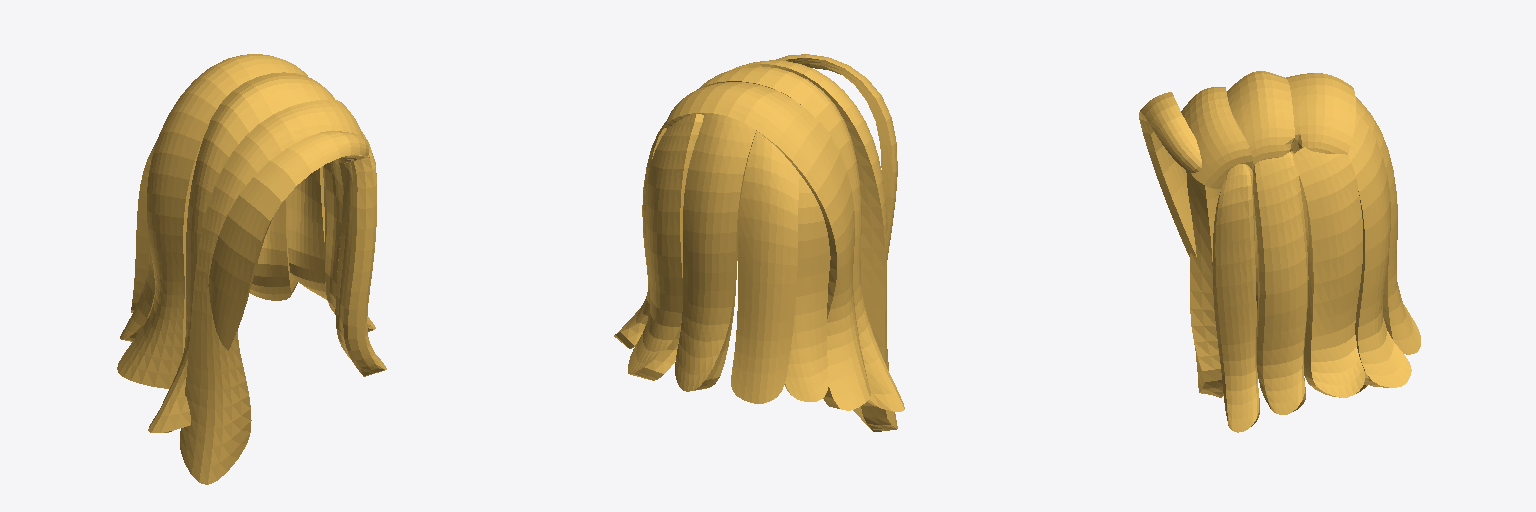
File: Head05.obj
3 views of the same model, side by side, from view 1: azimuth 30°, elevation 25°; view 2: azimuth 150°, elevation 25°; view 3: azimuth 270°, elevation 25° (orthographic).
Visible parts, largest first — view 1: KW_HairBand01_Cube.136, KW_HairBand05_Cube.139, KW_HairBand03_Cube.138, KW_HairBand02_Cube.137, KW_HairBand04_Cube.140, KW_HairBand07_Cube.142, KW_HairBand08_Cube.143, KW_HairBand06_Cube.141, KW_HairBand10_Cube.145, KW_HairBand11_Cube.146; view 2: KW_HairBand05_Cube.139, KW_HairBand09_Cube.144, KW_HairBand10_Cube.145, KW_HairBand08_Cube.143, KW_HairBand01_Cube.136, KW_HairBand11_Cube.146, KW_HairBand02_Cube.137, KW_HairBand03_Cube.138, KW_HairBand07_Cube.142; view 3: KW_HairBand07_Cube.142, KW_HairBand06_Cube.141, KW_HairBand04_Cube.140, KW_HairBand01_Cube.136, KW_HairBand08_Cube.143, KW_HairBand03_Cube.138, KW_HairBand05_Cube.139, KW_HairBand02_Cube.137, KW_HairBand09_Cube.144.
Boxes of the visible parts, box(x1,y1,x2,y2) form: KW_HairBand01_Cube.136: box(180, 100, 369, 484); KW_HairBand05_Cube.139: box(117, 54, 307, 388); KW_HairBand03_Cube.138: box(208, 130, 368, 350); KW_HairBand02_Cube.137: box(148, 72, 334, 432); KW_HairBand04_Cube.140: box(335, 131, 386, 376); KW_HairBand07_Cube.142: box(287, 166, 327, 300); KW_HairBand08_Cube.143: box(250, 198, 297, 300); KW_HairBand06_Cube.141: box(323, 159, 375, 331); KW_HairBand10_Cube.145: box(131, 139, 157, 312); KW_HairBand11_Cube.146: box(120, 249, 154, 341); KW_HairBand05_Cube.139: box(664, 82, 870, 410); KW_HairBand09_Cube.144: box(675, 114, 756, 391); KW_HairBand10_Cube.145: box(731, 131, 799, 403); KW_HairBand08_Cube.143: box(628, 114, 703, 380); KW_HairBand01_Cube.136: box(729, 60, 897, 431); KW_HairBand11_Cube.146: box(784, 175, 830, 401); KW_HairBand02_Cube.137: box(697, 66, 904, 411); KW_HairBand03_Cube.138: box(776, 54, 897, 259); KW_HairBand07_Cube.142: box(614, 122, 666, 348); KW_HairBand07_Cube.142: box(1293, 147, 1368, 397); KW_HairBand06_Cube.141: box(1253, 151, 1308, 414); KW_HairBand04_Cube.140: box(1212, 164, 1259, 432); KW_HairBand01_Cube.136: box(1181, 87, 1252, 397); KW_HairBand08_Cube.143: box(1348, 113, 1411, 387); KW_HairBand03_Cube.138: box(1139, 92, 1201, 256); KW_HairBand05_Cube.139: box(1286, 73, 1355, 257); KW_HairBand02_Cube.137: box(1227, 71, 1294, 309); KW_HairBand09_Cube.144: box(1356, 97, 1420, 354).
Size of the model in its own units: 68.32 by 96.8 by 69.03.